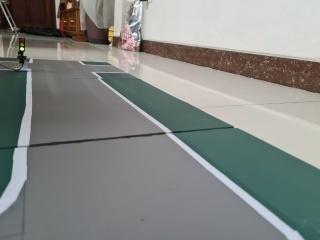green: (15, 29, 31, 62)
